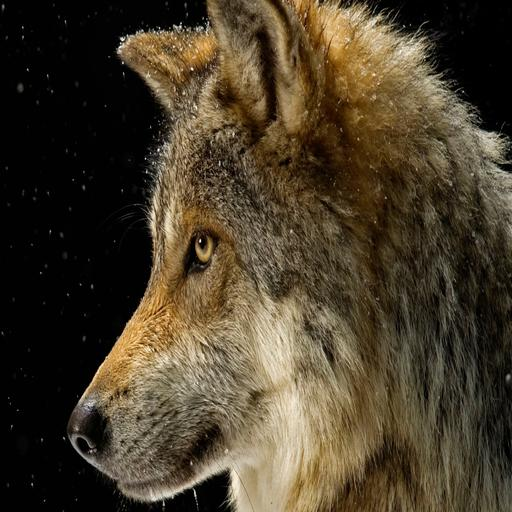Wolf: (62, 0, 512, 512)
